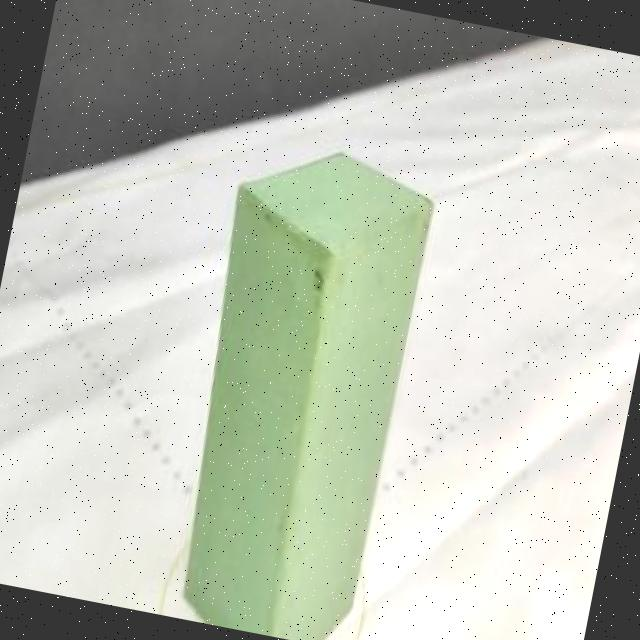greenbox: (156, 133, 444, 640)
